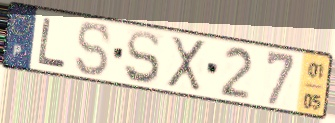2: (218, 46, 256, 102)
7: (264, 48, 297, 108)
L: (36, 15, 69, 70)
S: (74, 20, 113, 78), (123, 29, 162, 87)
X: (166, 34, 207, 94)
